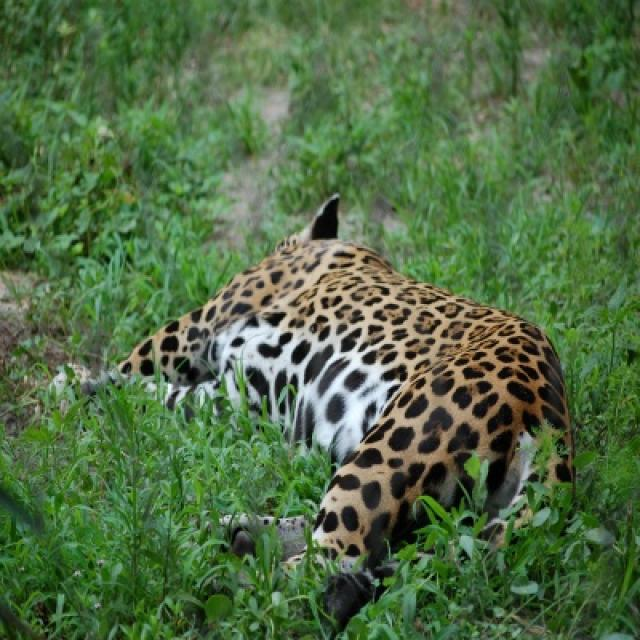Jaguar: (45, 186, 609, 636)
